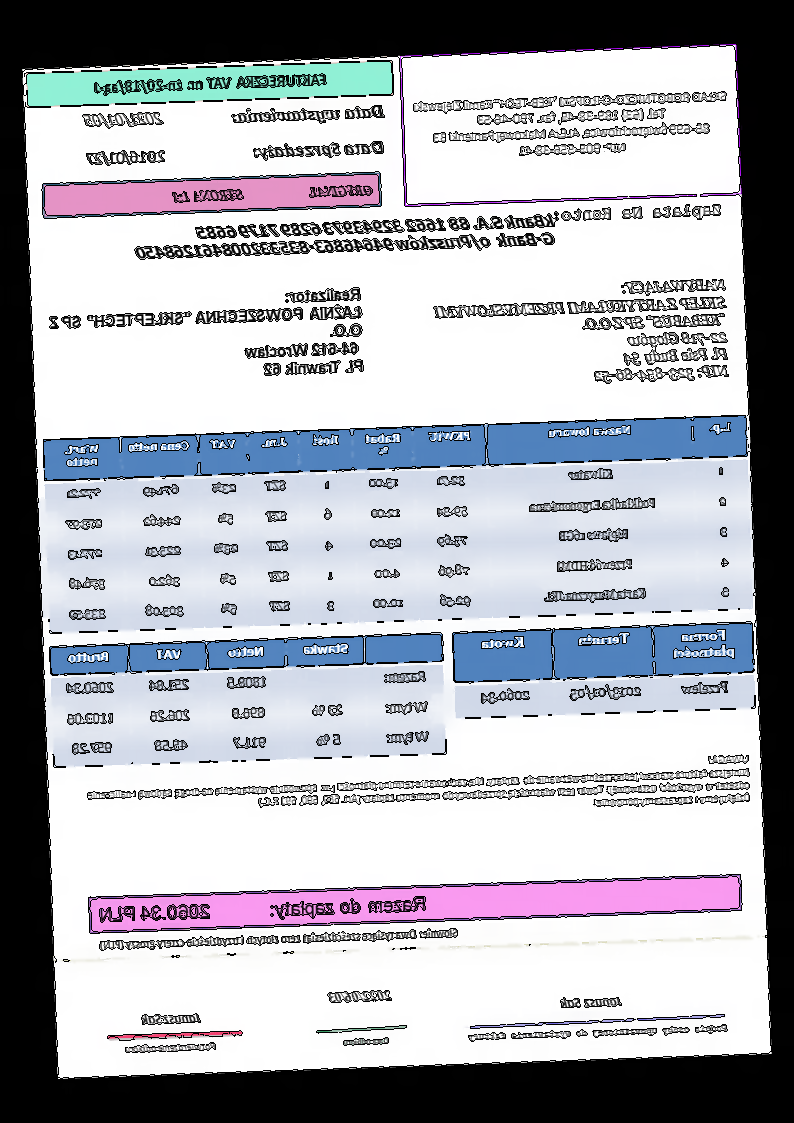Table: (41, 412, 755, 636), (47, 631, 448, 770), (453, 620, 757, 719)
TextBox: (84, 751, 752, 828), (430, 275, 731, 393), (44, 287, 367, 390), (410, 86, 731, 167), (131, 213, 556, 262), (98, 893, 428, 926), (96, 925, 461, 953), (92, 68, 330, 98), (467, 1023, 731, 1044), (169, 182, 374, 207), (232, 101, 387, 131), (552, 201, 724, 225), (251, 138, 388, 164), (81, 108, 165, 133), (85, 146, 168, 168), (558, 992, 626, 1013), (122, 1041, 219, 1055), (326, 988, 394, 1005), (139, 1011, 204, 1027), (340, 1035, 392, 1048)
